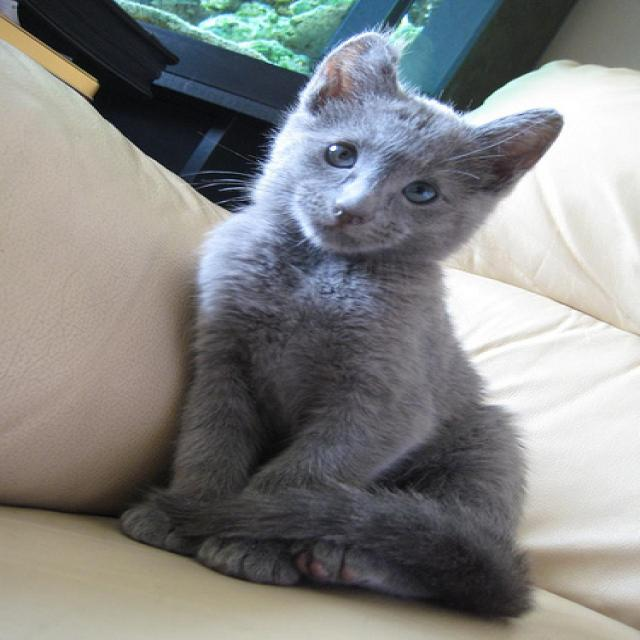cat: (288, 31, 560, 250)
